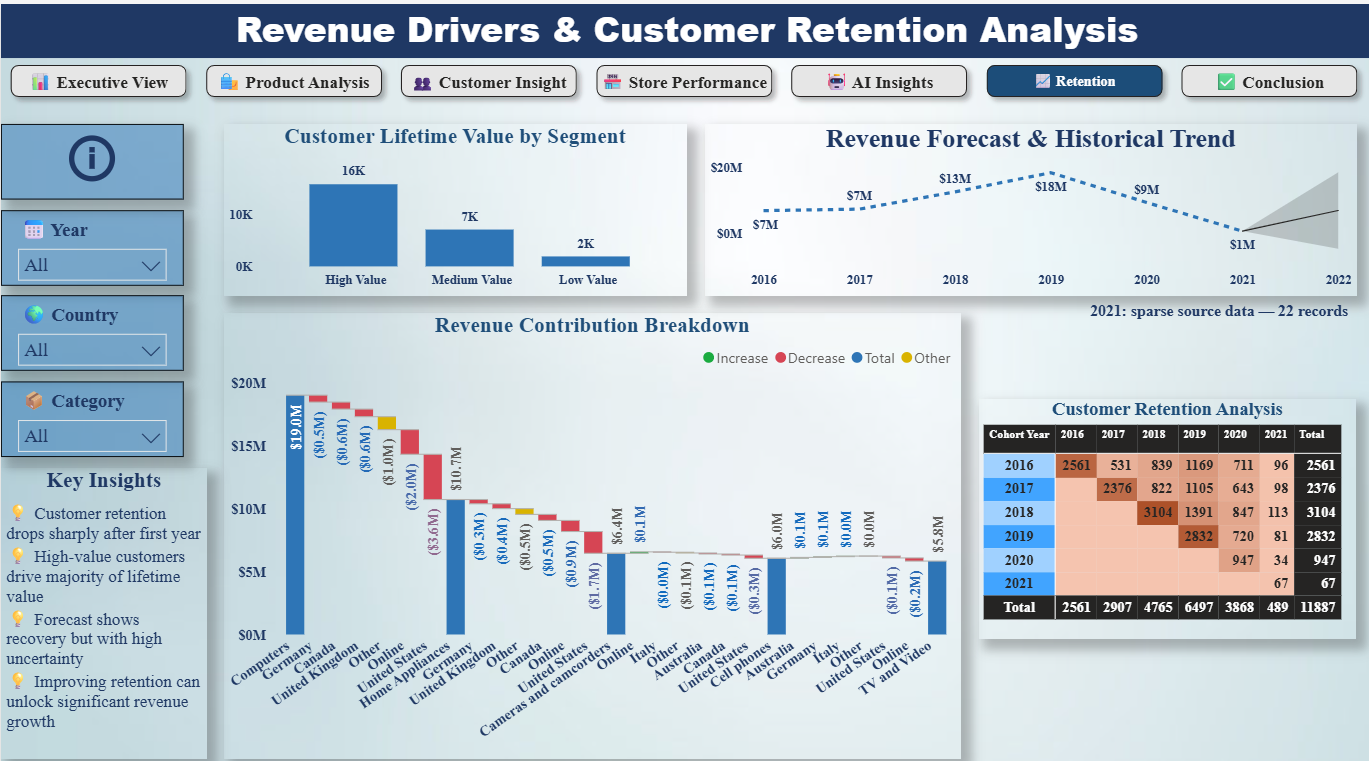

Layout of this report page (visuals, bound fields, positions):
{"tool":"powerbi","page":{"name":"📈 Retention","canvas":[1280,720],"ordinal":6},"visuals":[{"type":"textbox","title":"Revenue Drivers & Customer Retention Analysis","box":[0,0,1280,50],"z":0},{"type":"pageNavigator","box":[0,48,1280,48],"z":1000},{"type":"slicer","fields":{"Values":["Date Table.Year"]},"box":[0,192,170,70],"z":2000},{"type":"slicer","fields":{"Values":["Customers.Continent"]},"box":[0,272,170,70],"z":3000},{"type":"slicer","fields":{"Values":["Products.Category"]},"box":[0,352,170,70],"z":4000},{"type":"lineChart","title":"Revenue Forecast & Historical Trend","fields":{"Y":["Measure.Total Revenue"],"Category":["Date Table.Year"]},"box":[656,112,608,160],"z":5000},{"type":"clusteredColumnChart","title":"Customer Lifetime Value by Segment","fields":{"Category":["Customers.Customer Segment"],"Y":["Measure.Customer Lifetime Value"]},"box":[208,112,432,160],"z":6000},{"type":"pivotTable","title":"Customer Retention Analysis","fields":{"Rows":["Sales.Cohort Year"],"Columns":["Sales.Order Year"],"Values":["Measure.Customer Count"]},"box":[912,368,352,224],"z":7000},{"type":"waterfallChart","title":"Revenue Contribution Breakdown","fields":{"Y":["Measure.Total Revenue"],"Category":["Products.Category"],"Breakdown":["Stores.Country"]},"box":[208,288,688,416],"z":8000},{"type":"actionButton","box":[0,112,170,70],"z":9000},{"type":"textbox","box":[992,272,288,32],"z":10000},{"type":"textbox","title":"Key Insights ","box":[0,432,192,272],"z":11000}]}

Visuals, with their boxes in screenshot pixels (x1, y1, x2, y2), scaled from the page's 1280x720 canvas onto the 1369x761 screenshot:
"Revenue Drivers & Customer Retention Analysis" textbox: (0, 0, 1368, 53)
pageNavigator: (0, 51, 1368, 101)
slicer - Date Table.Year: (0, 203, 182, 277)
slicer - Customers.Continent: (0, 287, 182, 361)
slicer - Products.Category: (0, 372, 182, 446)
"Revenue Forecast & Historical Trend" lineChart: (702, 118, 1352, 287)
"Customer Lifetime Value by Segment" clusteredColumnChart: (222, 118, 684, 287)
"Customer Retention Analysis" pivotTable: (975, 389, 1352, 626)
"Revenue Contribution Breakdown" waterfallChart: (222, 304, 958, 744)
actionButton: (0, 118, 182, 192)
textbox: (1061, 287, 1368, 321)
"Key Insights " textbox: (0, 457, 205, 744)
